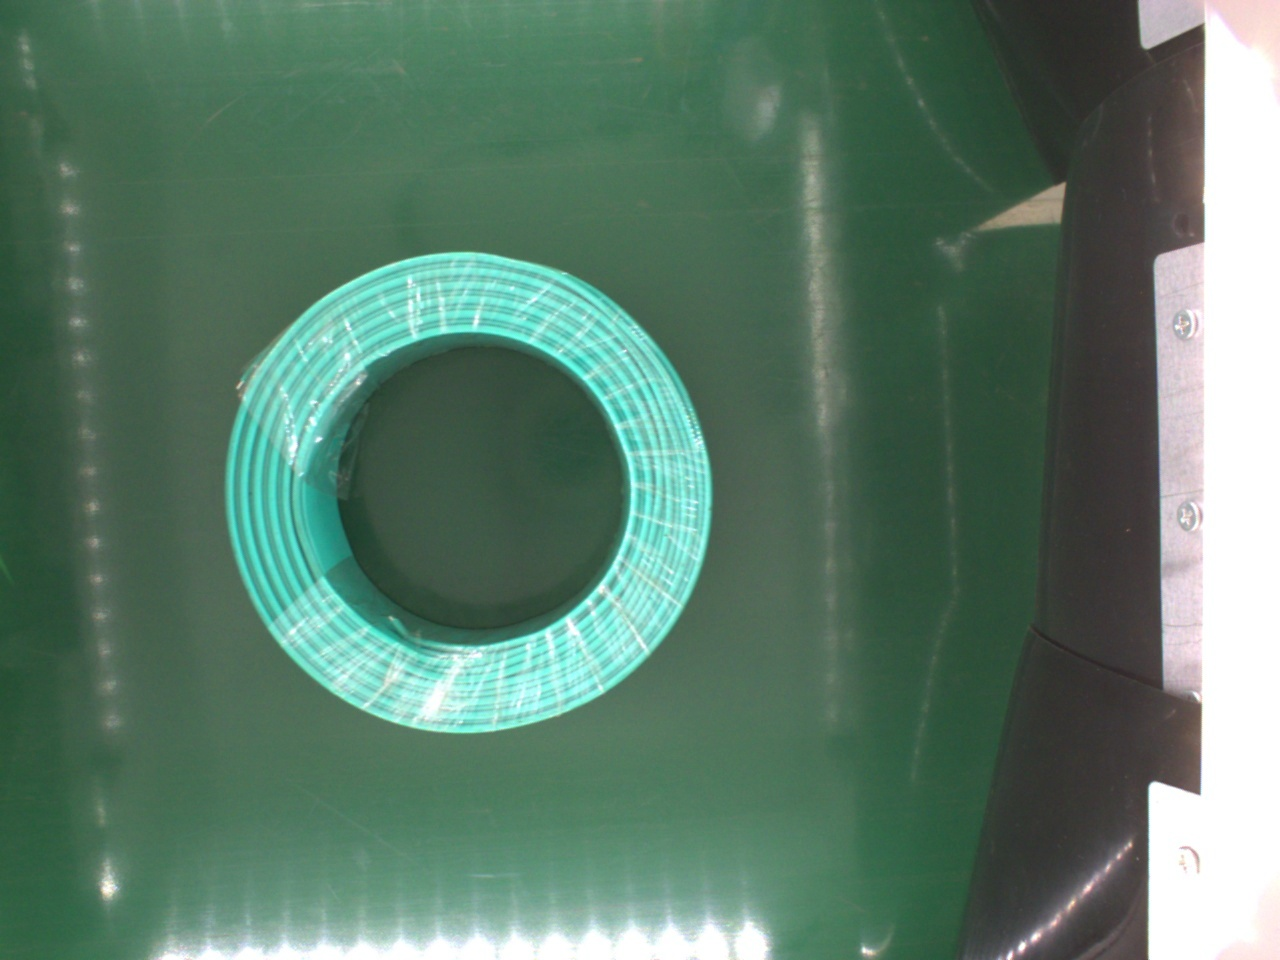green: (219, 255, 713, 737)
